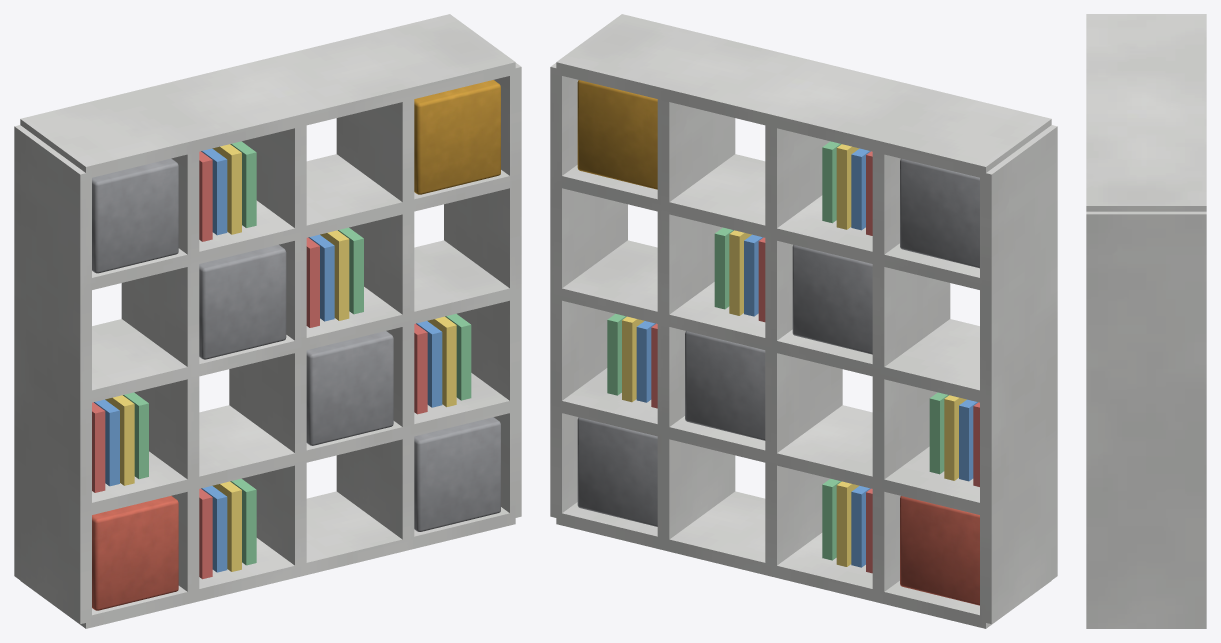
The picture shows the model from 3 angles, left to right: view 1: azimuth 30°, elevation 25°; view 2: azimuth 150°, elevation 25°; view 3: azimuth 270°, elevation 25°; orthographic projection. The views are drawn at different scales.
Visible parts, largest first — view 1: Decor_cube_shelf; view 2: Decor_cube_shelf; view 3: Decor_cube_shelf.
Boxes of the visible parts, x1,y1,x2,y2 form: Decor_cube_shelf: (14, 14, 521, 628); Decor_cube_shelf: (550, 14, 1057, 628); Decor_cube_shelf: (1086, 14, 1206, 628).
Size of the model in its own units: 1.51 by 1.51 by 0.39.
8 materials, 4 textured.
